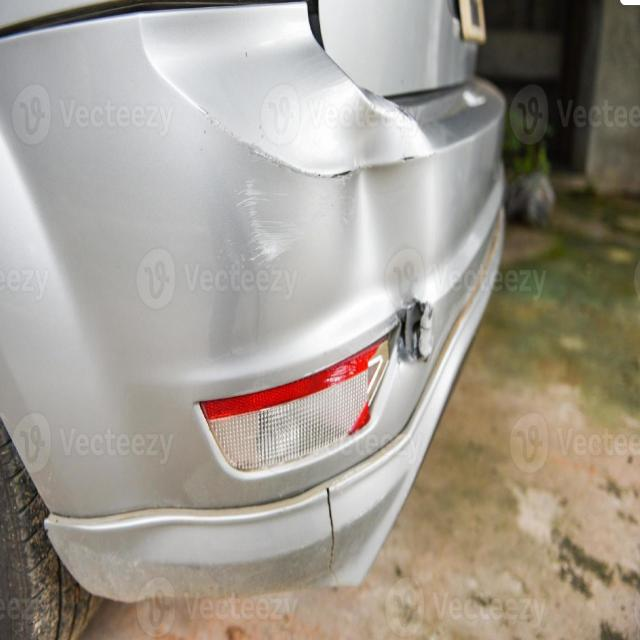Dent: (4, 15, 501, 433), (139, 4, 487, 178), (140, 4, 434, 177), (199, 107, 369, 178), (237, 179, 304, 267), (398, 300, 434, 361), (326, 488, 339, 586)
